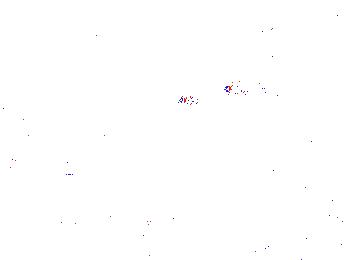glassfish: (204, 136, 309, 207)
red belly glassfish: (175, 87, 227, 110), (220, 80, 265, 97), (259, 25, 287, 51)
